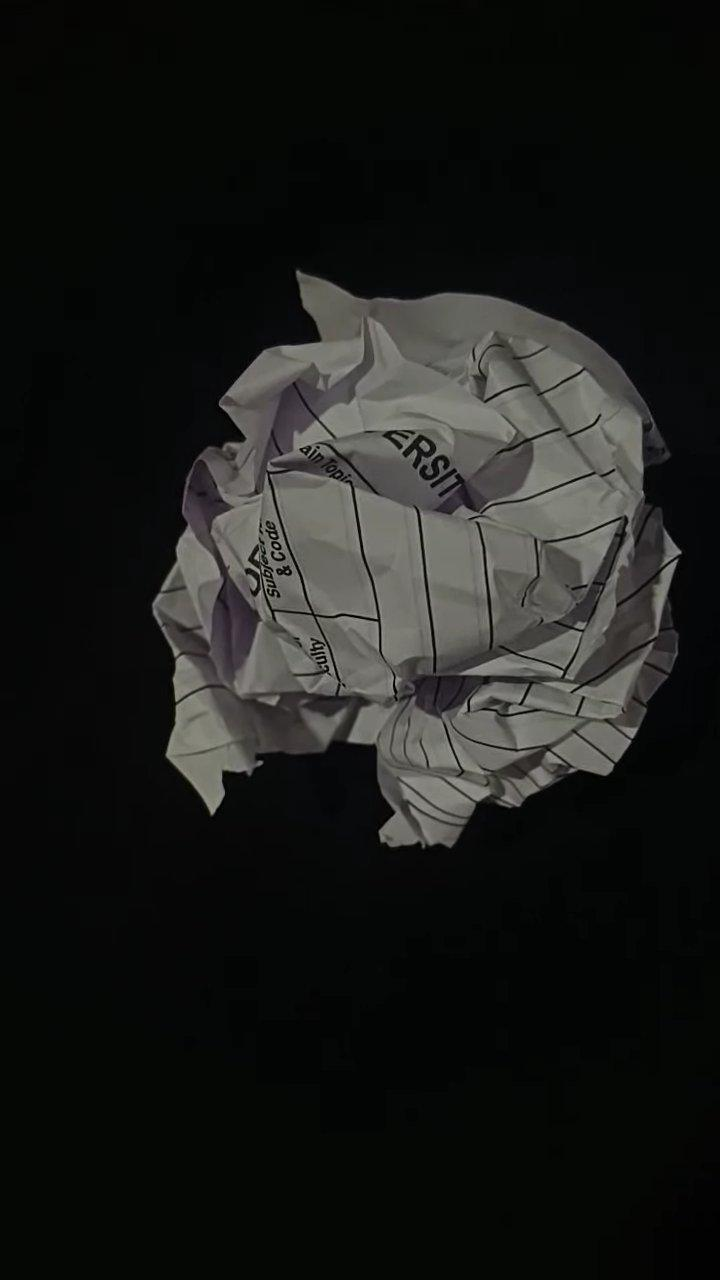PaperBall: (153, 275, 676, 843)
